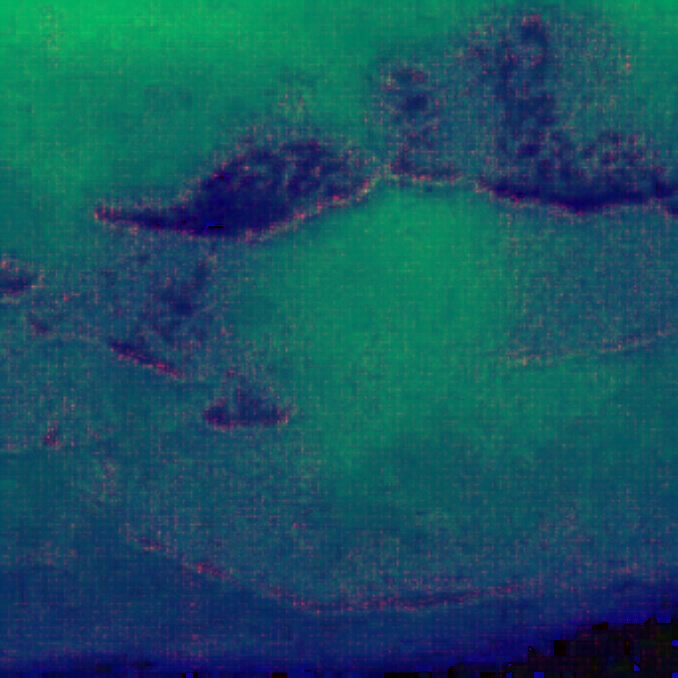rip_current: (216, 106, 525, 565)
